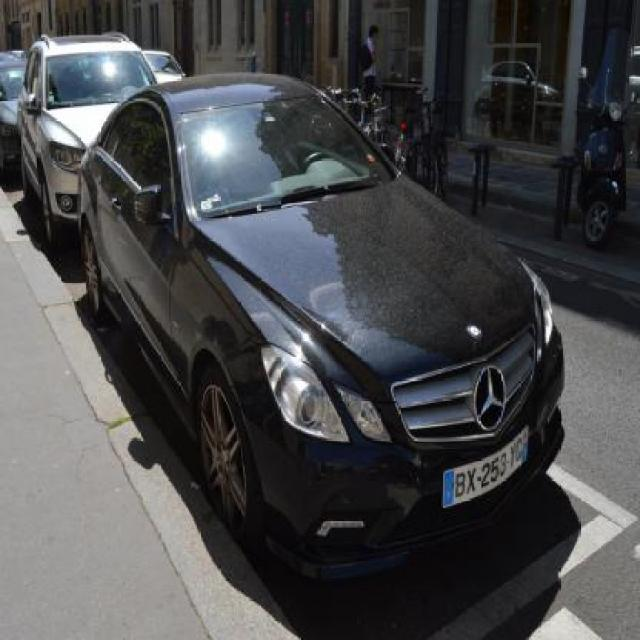License-Plates: (438, 421, 534, 516)
